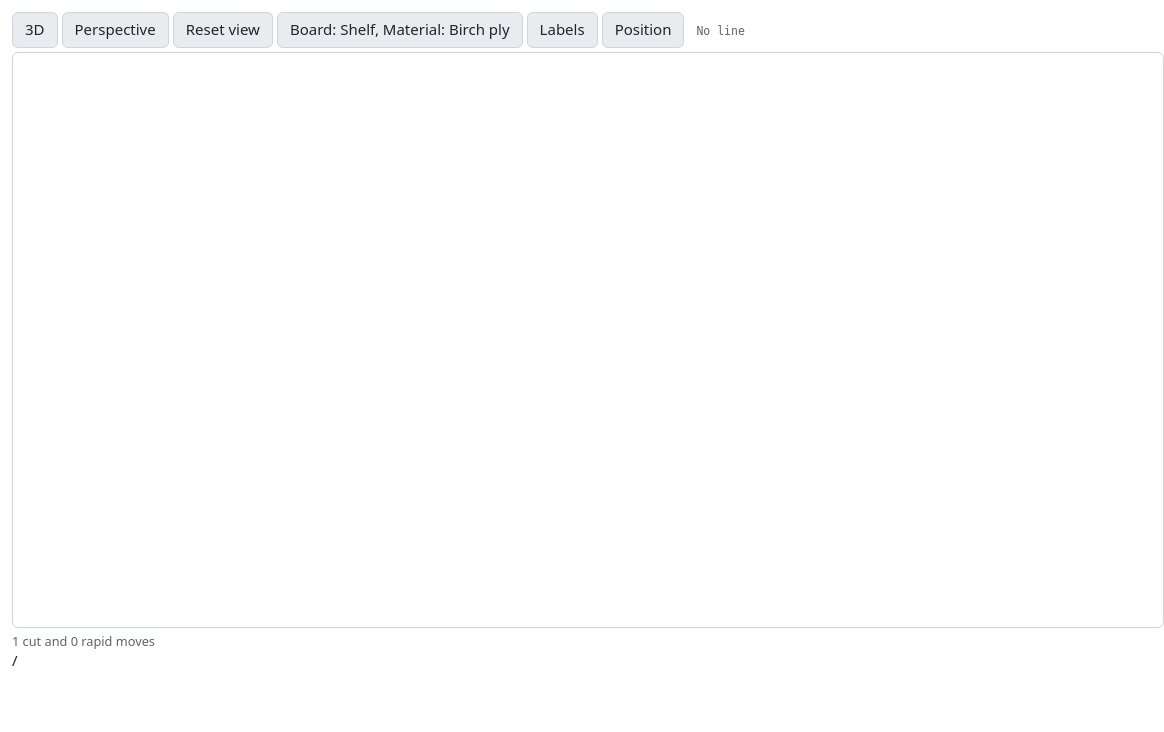
it: Viewer placement › drags the toolpath over the last run, drawn at its own home, then sets home there
The width and height of the screenshot is (1164, 732).
Later steps or results of the test are not shown.
Check: the text "1 cut and 0 rapid moves" is shown, box [12, 632, 155, 650]
Step 1. Click the button "Position" → {"x": 643, "y": 30}, box [602, 12, 684, 48]
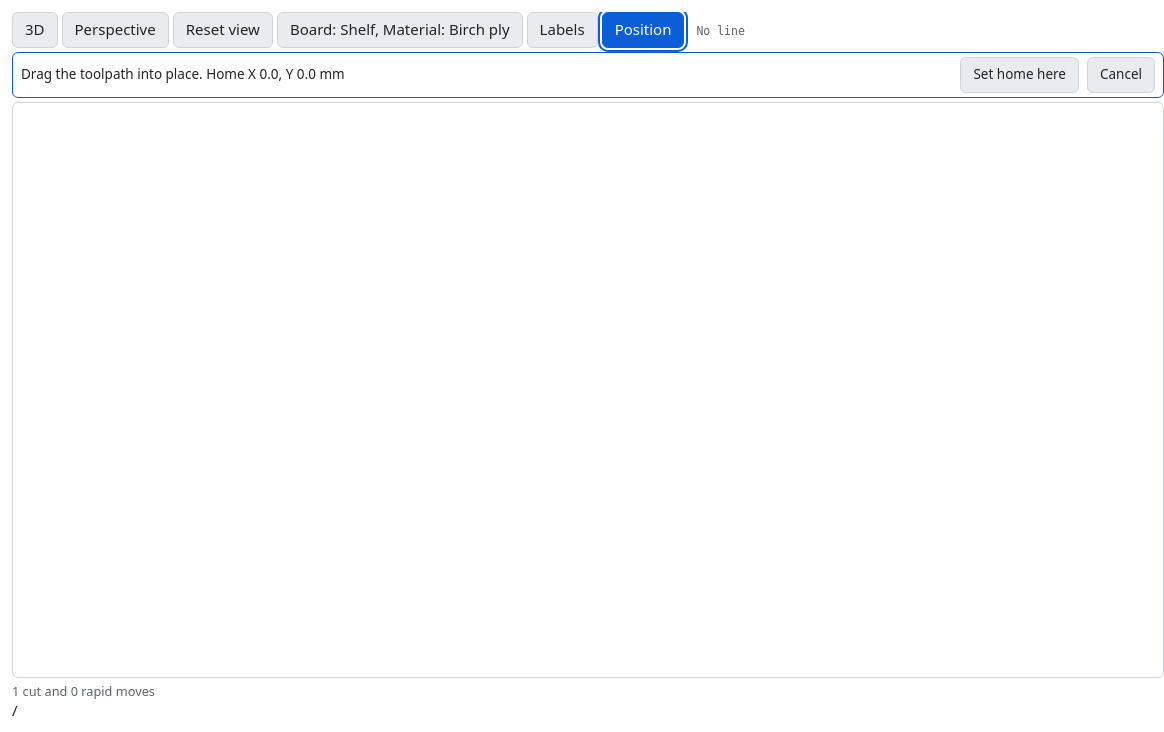
Check: the button "Position" is pressed, box [602, 12, 684, 48]
Step 2. Press the mouse on the picture named "Bed, sled and toolpath" → {"x": 588, "y": 390}, box [13, 103, 1163, 677]
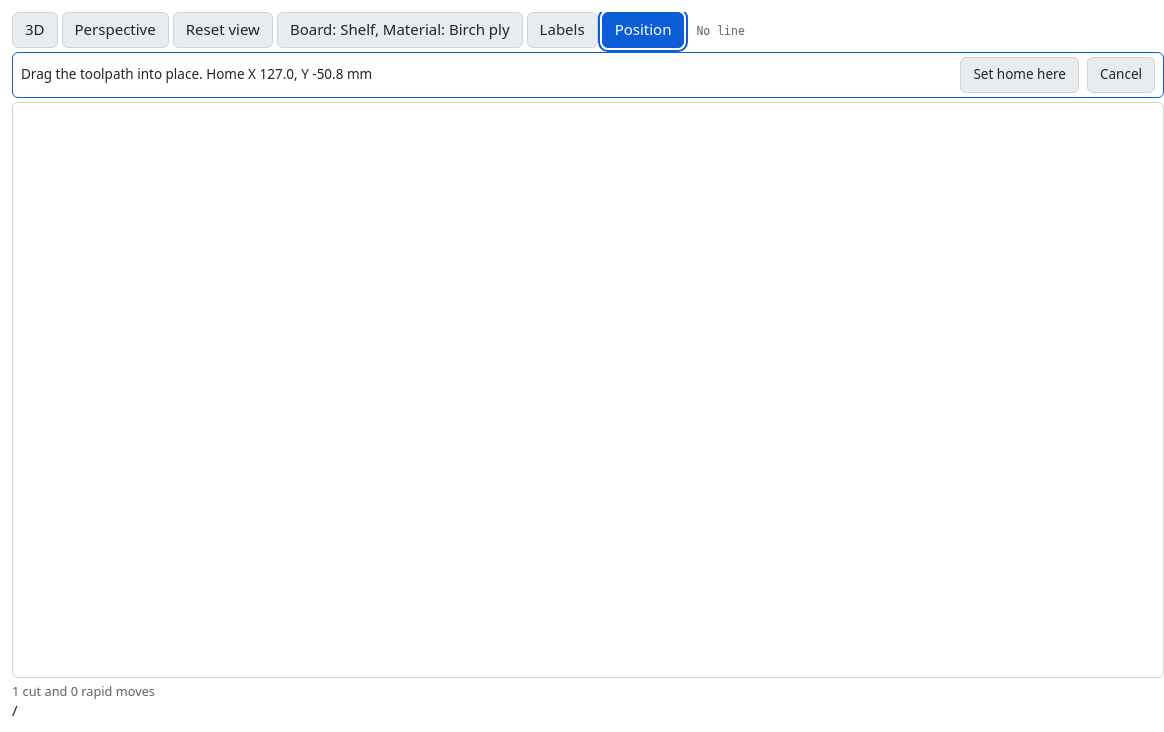
Step 3. Press the mouse on the picture named "Bed, sled and toolpath" → {"x": 588, "y": 390}, box [13, 103, 1163, 677]
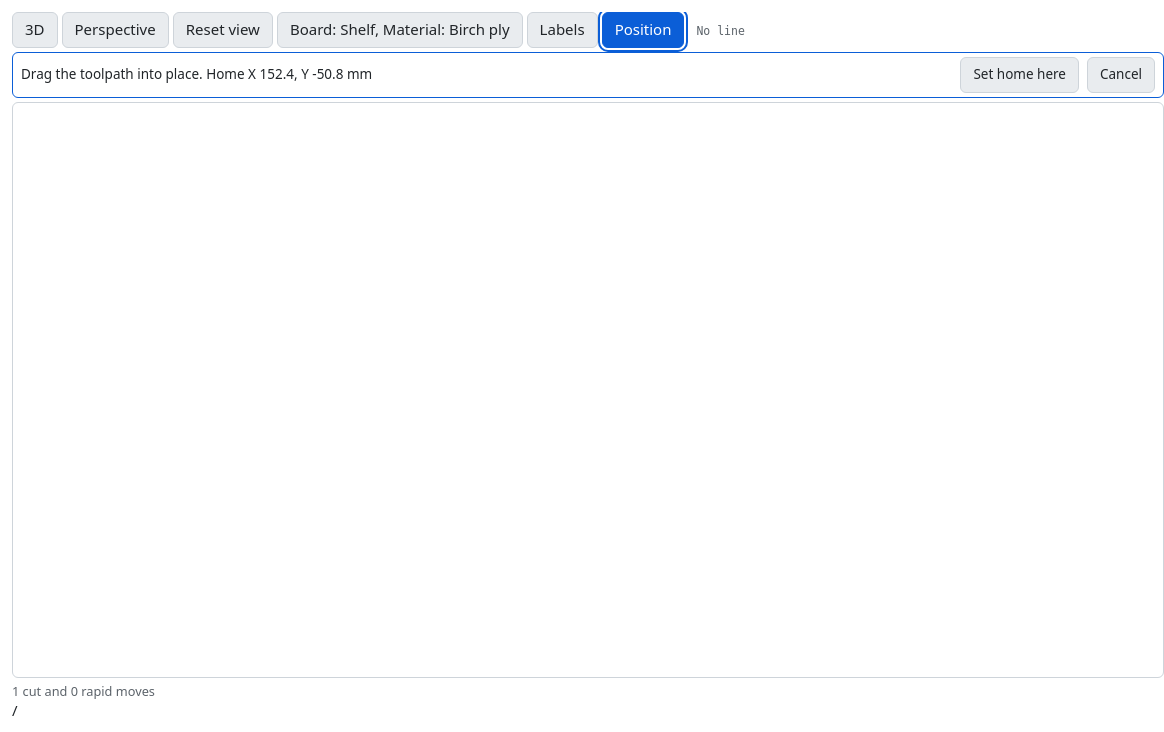
Check: the element named "Position gcode" shows "Home X 152.4, Y -50.8 mm", box [12, 52, 1163, 98]
